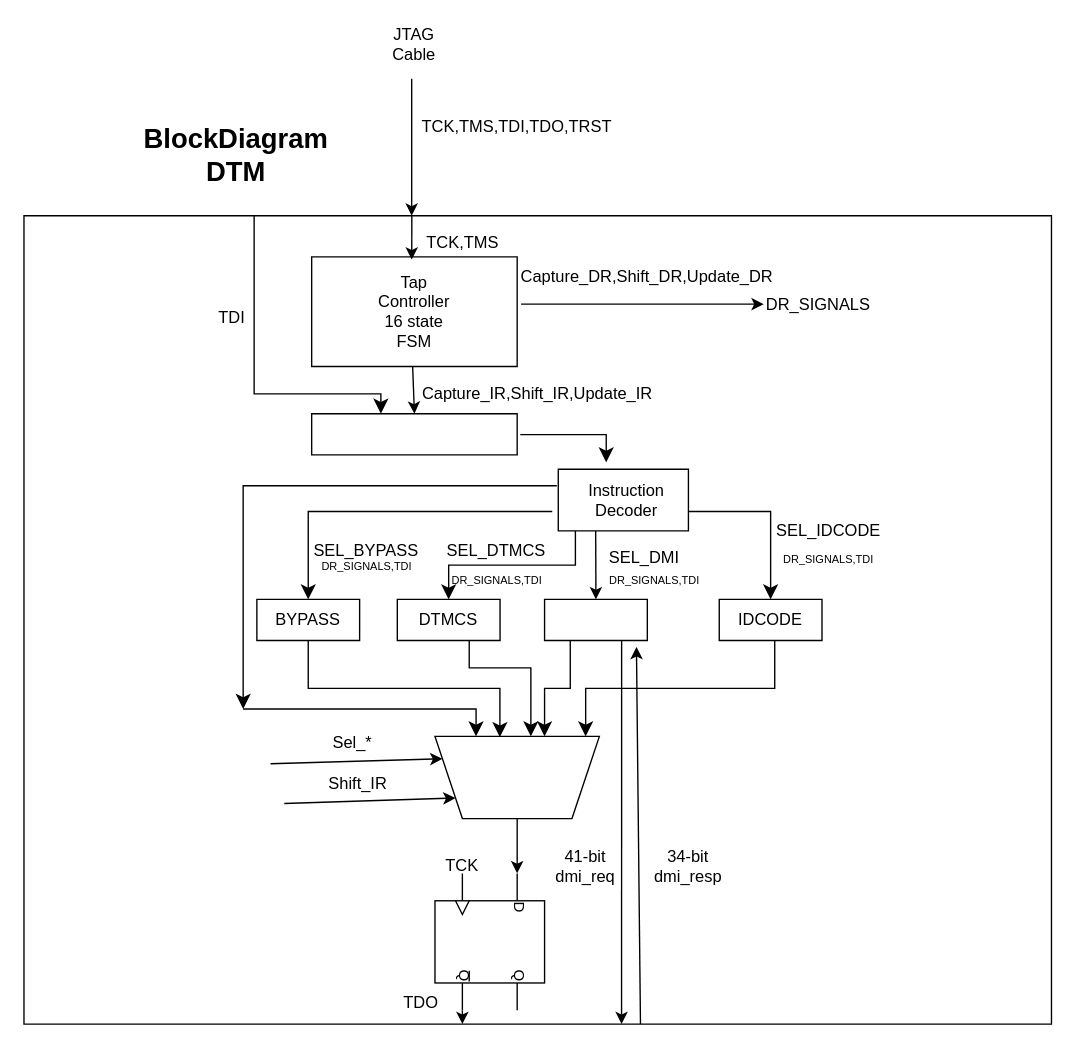
The diagram is 1075 pixels wide and 1059 high, and some of its shapes have lost their labels. The centre of each missing label's shape, as x and y in pixels:
"DMI Register" belongs at point (595, 619).
"Instruction Register" belongs at point (413, 433).
"MUX" belongs at point (516, 777).
